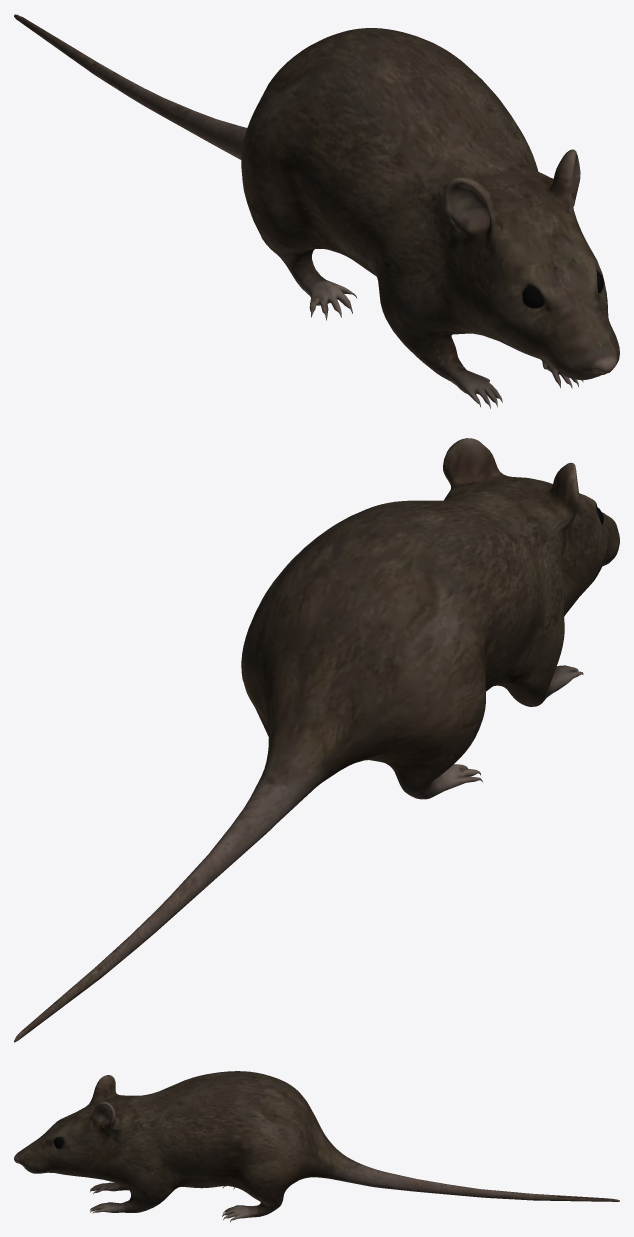
The model's file is street_rat.glb.
3 renders of one model, top to bottom at view 1: azimuth 30°, elevation 25°; view 2: azimuth 150°, elevation 25°; view 3: azimuth 270°, elevation 25°, orthographic. The views are drawn at different scales.
Visible parts, largest first — view 1: street_rat; view 2: street_rat; view 3: street_rat.
Part boxes in pixels (x1,y1,x2,y2): street_rat: (14, 14, 619, 408); street_rat: (14, 438, 619, 1042); street_rat: (14, 1071, 619, 1222).
Size of the model in its own units: 0.032 by 0.0339 by 0.1483.
Materials: 1 (1 with a texture image).
